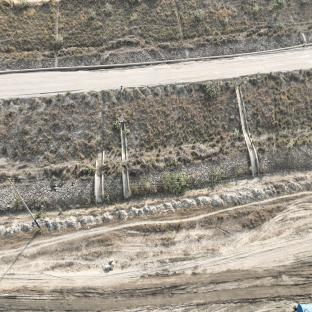rock_toe: (130, 152, 251, 195), (0, 179, 91, 209), (259, 143, 312, 172), (103, 179, 122, 198)
slope_drain: (235, 87, 259, 177), (120, 121, 130, 199), (94, 151, 104, 200)
